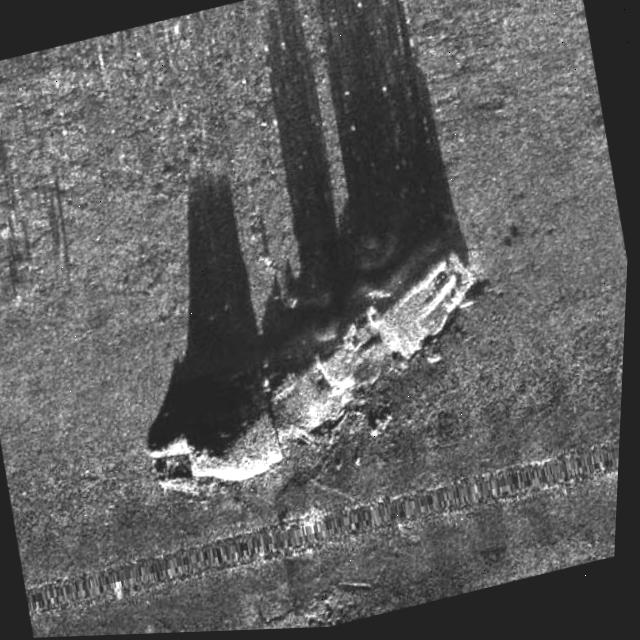shipwreck: (118, 255, 505, 509)
